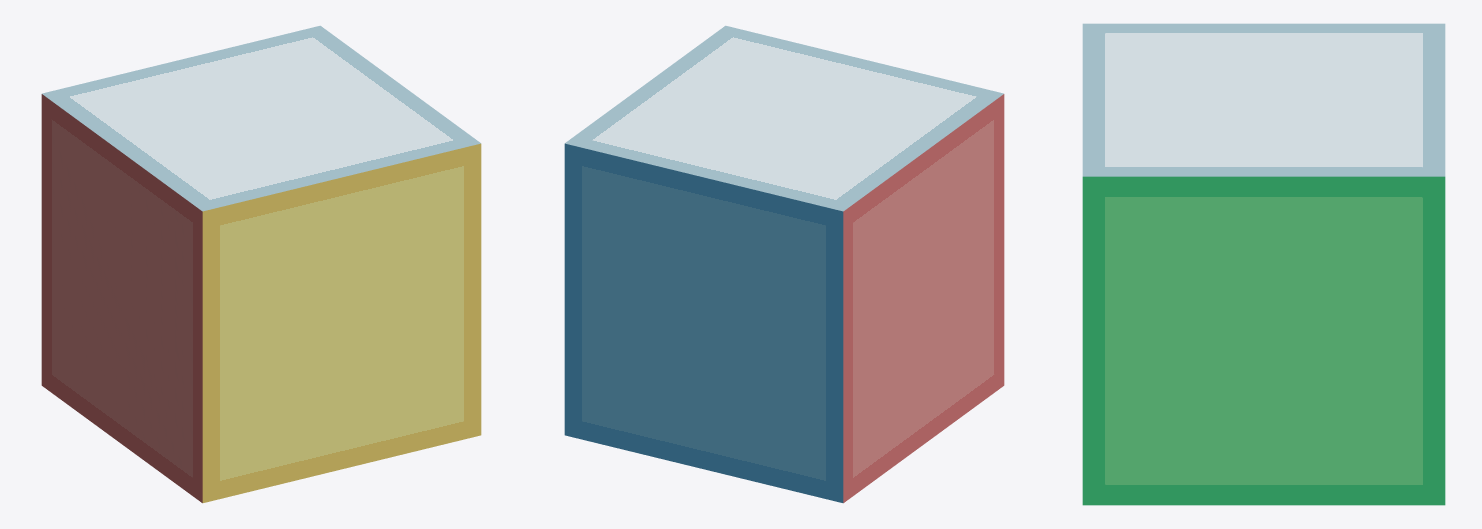
3 views of the same model, side by side, from view 1: azimuth 30°, elevation 25°; view 2: azimuth 150°, elevation 25°; view 3: azimuth 270°, elevation 25° (orthographic). The views are drawn at different scales.
Parts seen in each view (by area): view 1: mesher; view 2: mesher; view 3: mesher.
Part boxes in pixels (box(x1,y1,x2,y2)): mesher: box(41, 25, 481, 503); mesher: box(564, 25, 1004, 503); mesher: box(1082, 23, 1445, 505).
Size of the model in its own units: 1.12 by 1 by 1.12.
Materials: 1 (1 with a texture image).
